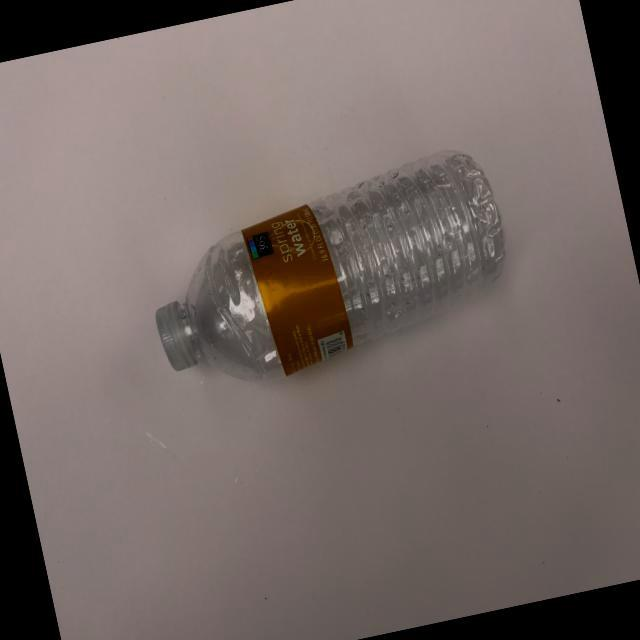plastic: (97, 73, 555, 467)
